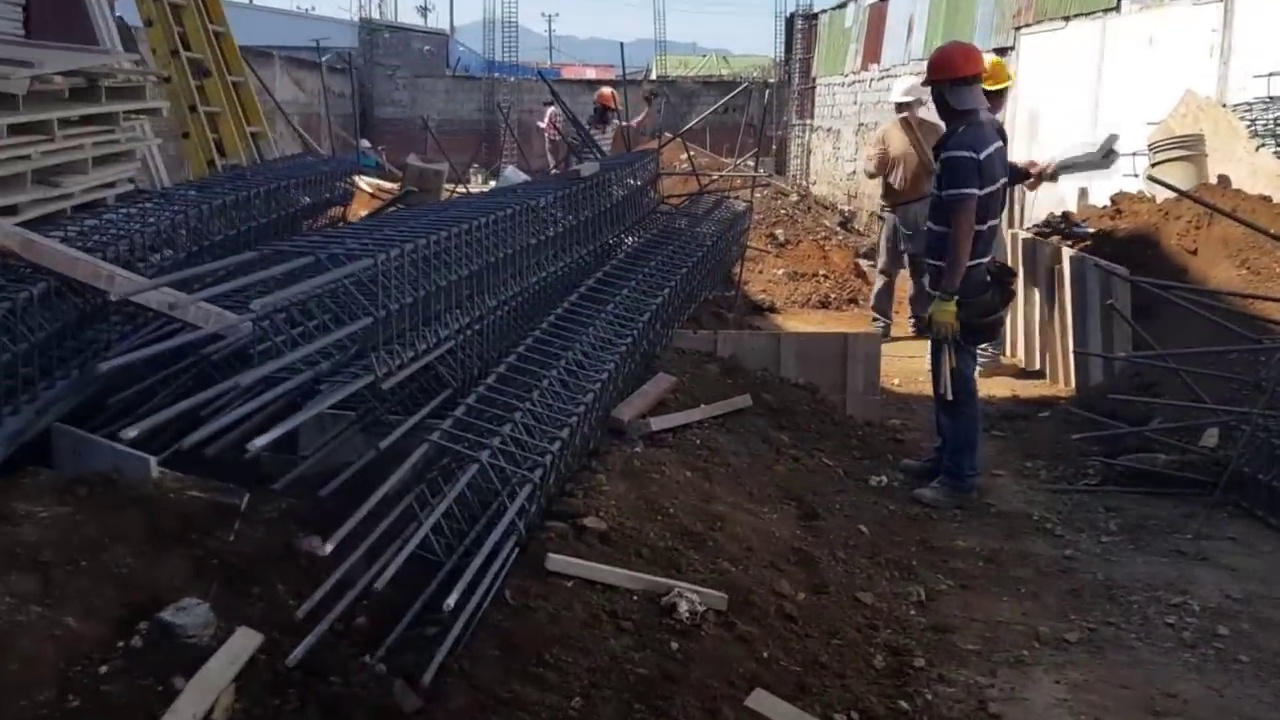helmet: (920, 43, 990, 82), (889, 76, 930, 107), (981, 55, 1015, 92), (591, 87, 624, 110)
helmet-off: (541, 98, 555, 112)
helmet-on: (920, 42, 990, 136), (978, 54, 1015, 122), (888, 75, 930, 123), (588, 89, 624, 127)
person: (918, 40, 1028, 488), (861, 75, 947, 345), (567, 88, 623, 167), (539, 98, 564, 175)
